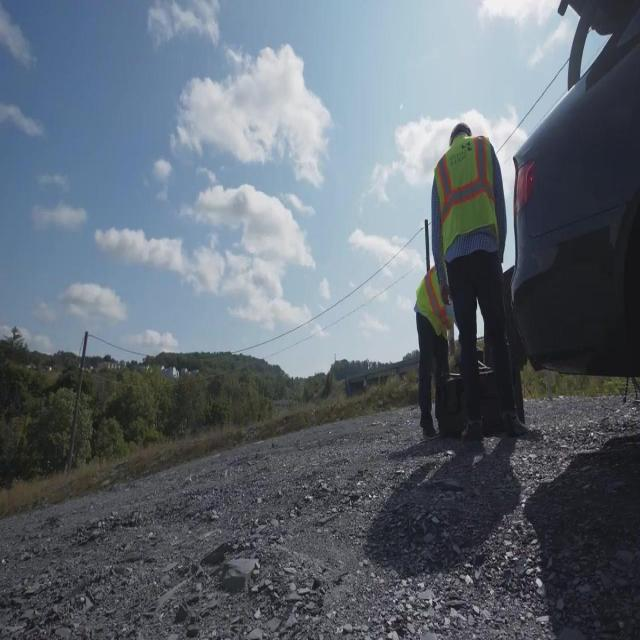Reflective-Jacket: (424, 134, 512, 276), (408, 264, 458, 349)
